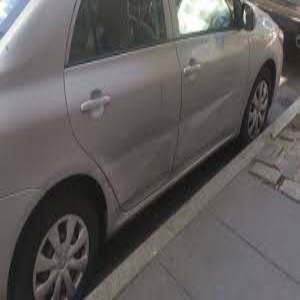door_scratch: (112, 89, 225, 168)
